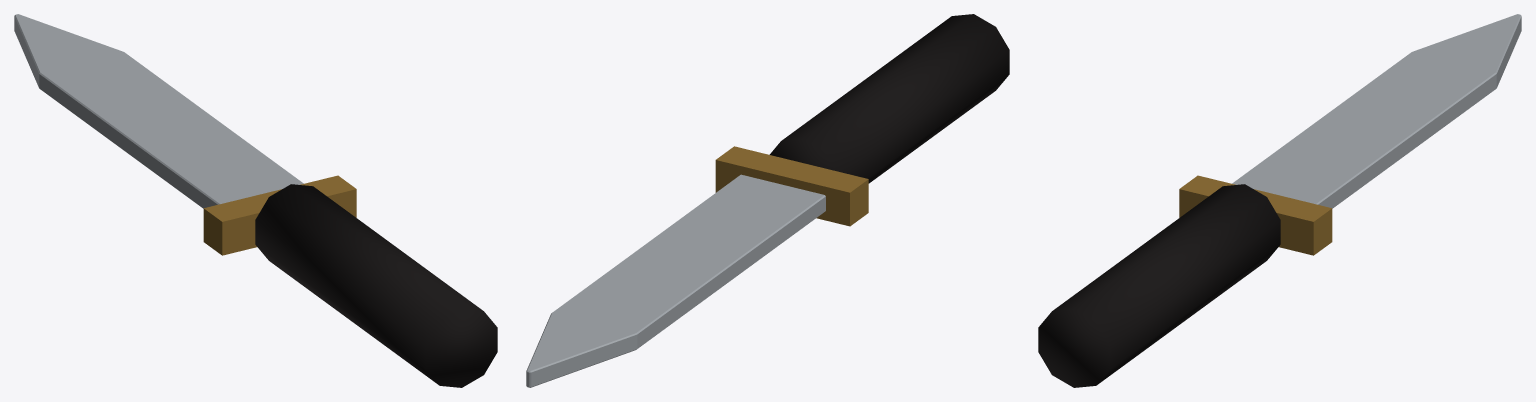
The model's file is knife.glb.
3 renders of one model, left to right at view 1: azimuth 30°, elevation 25°; view 2: azimuth 150°, elevation 25°; view 3: azimuth 330°, elevation 25°, orthographic.
Parts seen in each view (by area): view 1: knife; view 2: knife; view 3: knife.
Part boxes in pixels (left/top/right/bottom): knife: left=14, top=14, right=497, bottom=387; knife: left=526, top=14, right=1009, bottom=387; knife: left=1038, top=14, right=1521, bottom=387.
Size of the model in its own units: 0.05 by 0.028 by 0.287.
